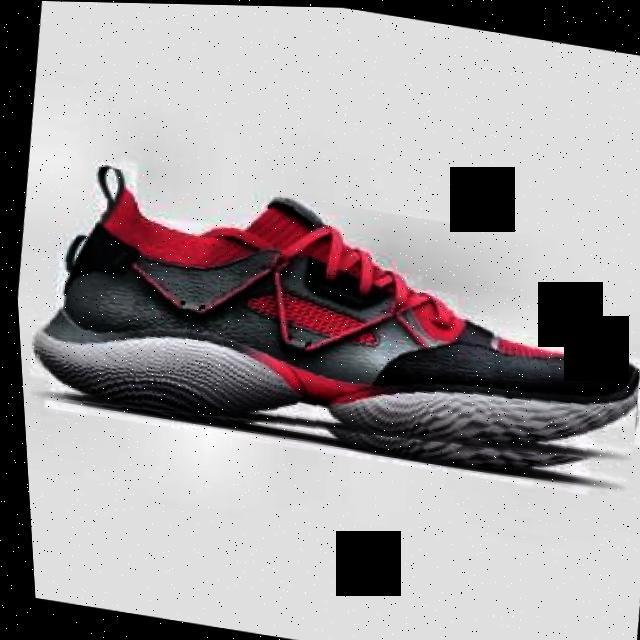shoe: (14, 158, 640, 492)
